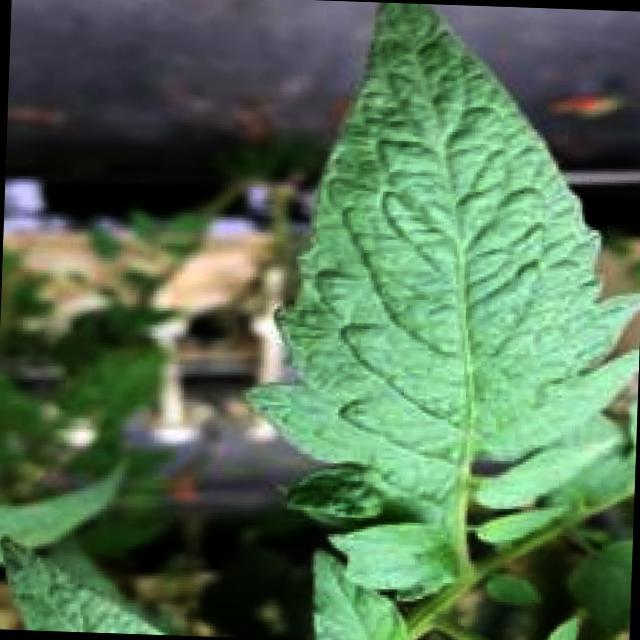Tomato healthy leaf: (245, 2, 640, 589)
